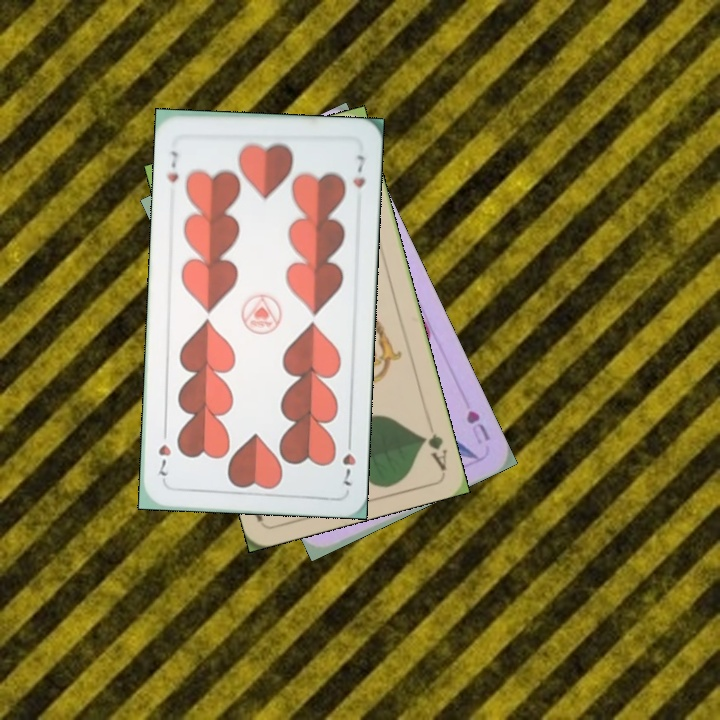GA: (417, 429, 450, 472)
H7: (338, 432, 359, 490), (164, 146, 181, 186)
HU: (462, 406, 493, 447)
